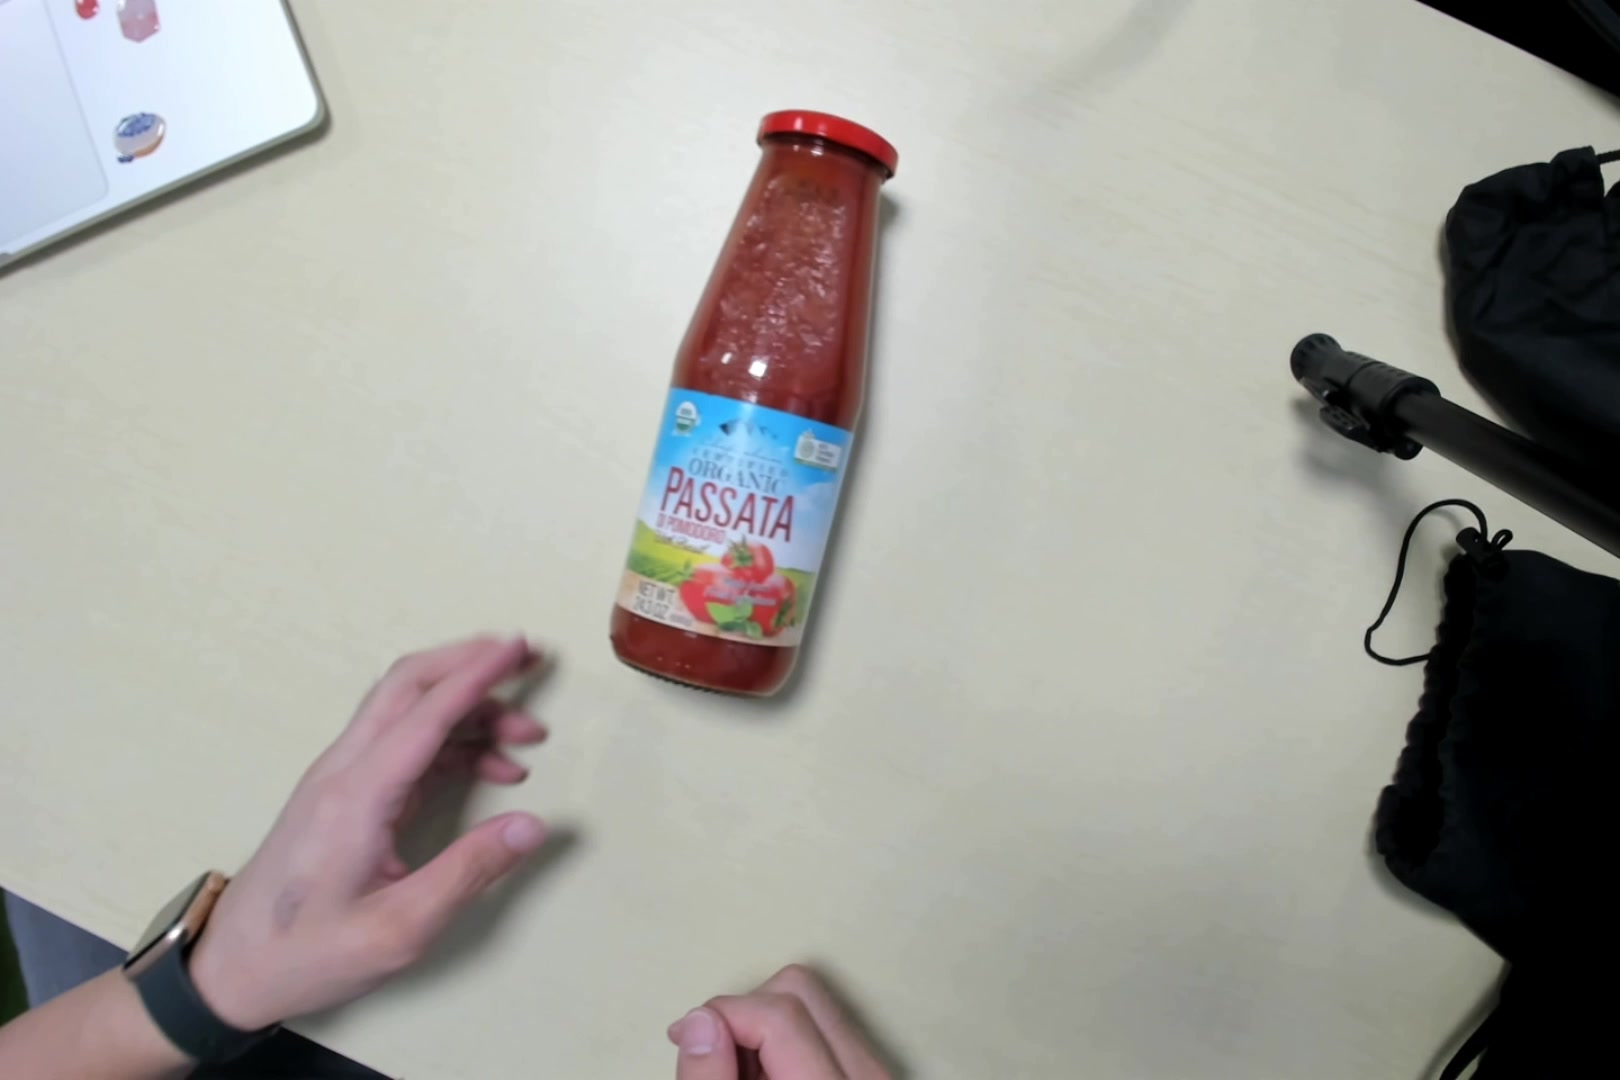PastaSauce_600-699g_NonHalal_NonHealthy: (607, 111, 903, 716)
